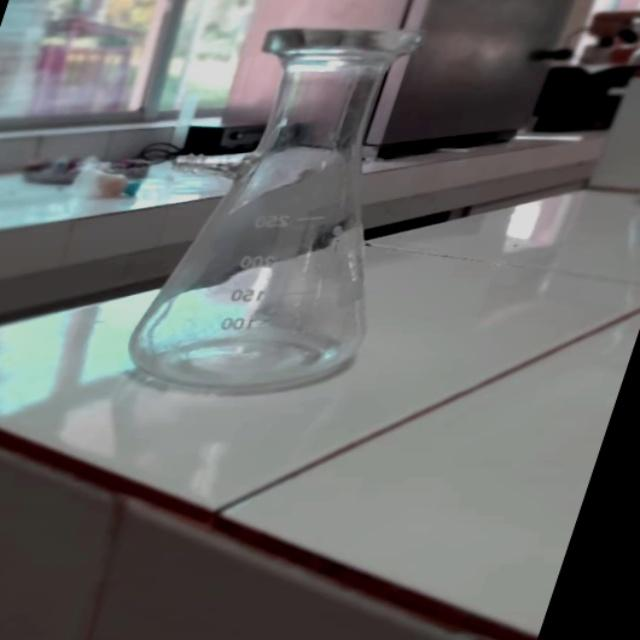Filtration Flask: (65, 19, 467, 402)
